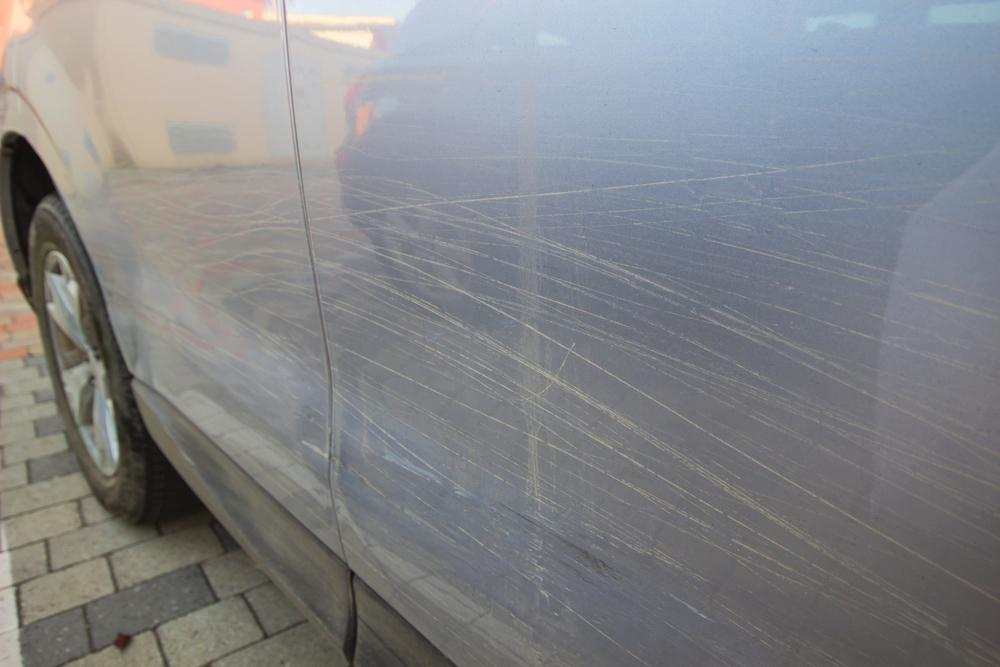scratch: (297, 126, 1000, 667), (87, 162, 331, 456)
